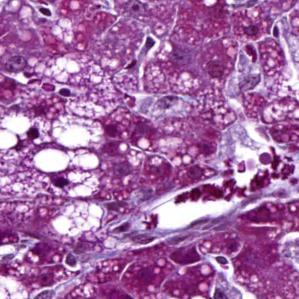ballooning: (45, 110, 106, 152), (49, 200, 104, 238)
